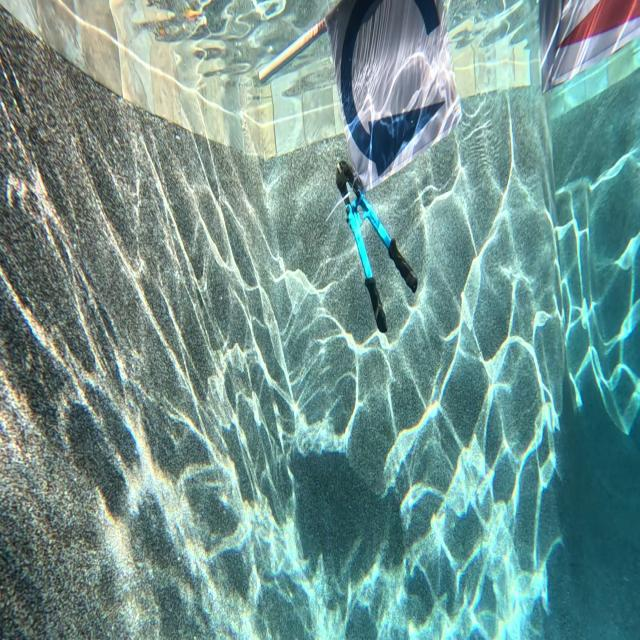blue_side: (308, 0, 461, 193)
red_side: (545, 0, 640, 85)
